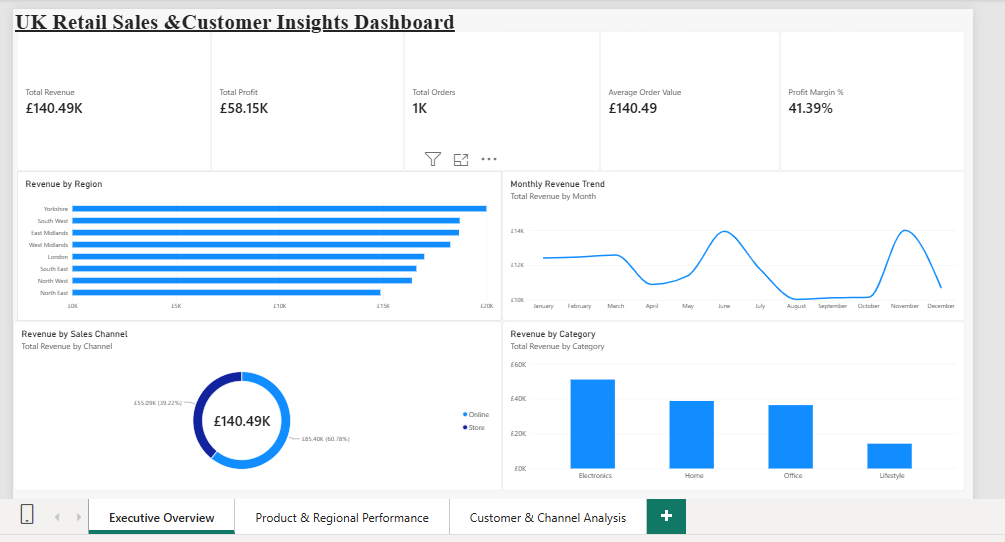

What the dashboard file says about the page in this screenshot:
{"tool":"powerbi","page":{"name":"Executive Overview","canvas":[1920,1080],"ordinal":0},"visuals":[{"type":"cardVisual","fields":{"Data":["Sales_Data.Total Revenue"]},"box":[8,44,388,280],"z":0},{"type":"cardVisual","fields":{"Data":["Sales_Data.Profit Margin %"]},"box":[1534,44,370,280],"z":1},{"type":"cardVisual","fields":{"Data":["Sales_Data.Total Profit"]},"box":[396,44,386,280],"z":2},{"type":"cardVisual","fields":{"Data":["Sales_Data.Average Order Value"]},"box":[1174,44,360,280],"z":3},{"type":"cardVisual","fields":{"Data":["Sales_Data.Total Orders"]},"box":[782,44,392,280],"z":4},{"type":"lineChart","title":"Monthly Revenue Trend","fields":{"Category":["Sales_Data.Order Date.Variation.Date Hierarchy.Year","Sales_Data.Order Date.Variation.Date Hierarchy.Quarter","Sales_Data.Order Date.Variation.Date Hierarchy.Month","Sales_Data.Order Date.Variation.Date Hierarchy.Day"],"Y":["Sales_Data.Total Revenue"]},"box":[978,324,926,300],"z":5},{"type":"clusteredBarChart","title":"Revenue by Region","fields":{"Category":["Sales_Data.Region"],"Y":["Sales_Data.Total Revenue"]},"box":[8,324,970,300],"z":6},{"type":"donutChart","title":"Revenue by Sales Channel","fields":{"Category":["Sales_Data.Channel"],"Y":["Sales_Data.Total Revenue"]},"box":[0,624,978,340],"z":7},{"type":"clusteredColumnChart","title":"Revenue by Category","fields":{"Category":["Sales_Data.Category"],"Y":["Sales_Data.Total Revenue"]},"box":[978,624,926,340],"z":8},{"type":"textbox","box":[4,0,890,86],"z":10}]}

Visuals, with their boxes on the page's 1920x1080 design canvas (x1, y1, x2, y2). These are canvas units, not pixel positions in the 1005x542 screenshot, which may show the page scaled, cropped or inside an application window:
cardVisual - Sales_Data.Total Revenue: [left=8, top=44, right=396, bottom=324]
cardVisual - Sales_Data.Profit Margin %: [left=1534, top=44, right=1904, bottom=324]
cardVisual - Sales_Data.Total Profit: [left=396, top=44, right=782, bottom=324]
cardVisual - Sales_Data.Average Order Value: [left=1174, top=44, right=1534, bottom=324]
cardVisual - Sales_Data.Total Orders: [left=782, top=44, right=1174, bottom=324]
"Monthly Revenue Trend" lineChart: [left=978, top=324, right=1904, bottom=624]
"Revenue by Region" clusteredBarChart: [left=8, top=324, right=978, bottom=624]
"Revenue by Sales Channel" donutChart: [left=0, top=624, right=978, bottom=964]
"Revenue by Category" clusteredColumnChart: [left=978, top=624, right=1904, bottom=964]
textbox: [left=4, top=0, right=894, bottom=86]
